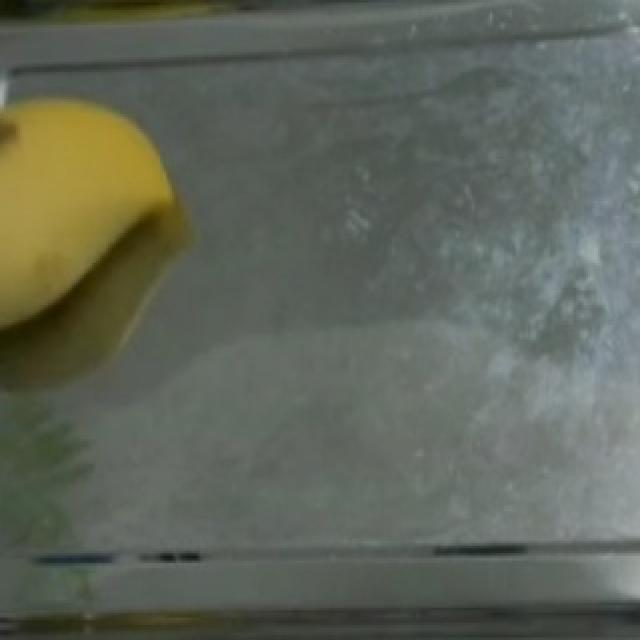fruit: (0, 70, 194, 352)
